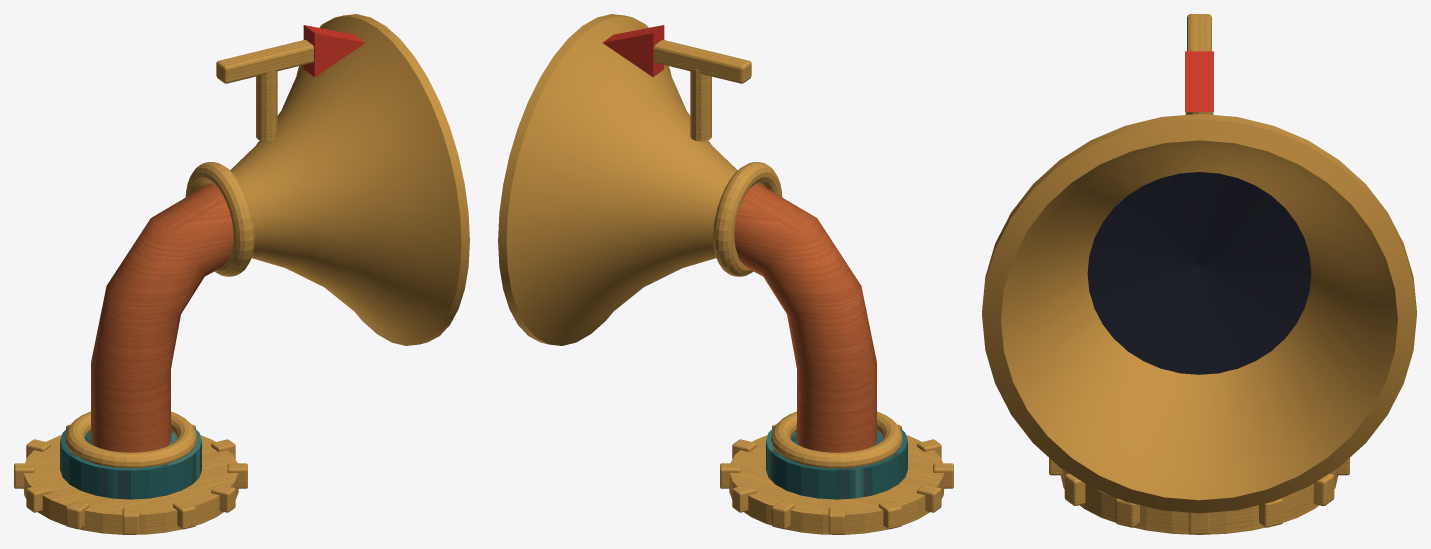
Rendered from act2_tower_horn_bl.glb.
3 views of the same model, side by side, from view 1: azimuth 30°, elevation 25°; view 2: azimuth 150°, elevation 25°; view 3: azimuth 270°, elevation 25° (orthographic). The views are drawn at different scales.
Visible parts, largest first — view 1: ANIM_Act2_TowerHorn_Mesh; view 2: ANIM_Act2_TowerHorn_Mesh; view 3: ANIM_Act2_TowerHorn_Mesh.
Boxes of the visible parts, left/top/right/bottom form: ANIM_Act2_TowerHorn_Mesh: left=14, top=14, right=469, bottom=534; ANIM_Act2_TowerHorn_Mesh: left=498, top=14, right=953, bottom=534; ANIM_Act2_TowerHorn_Mesh: left=982, top=14, right=1416, bottom=534.
Size of the model in its own units: 0.854 by 0.94 by 0.69.
Materials: 5 (3 with a texture image).
